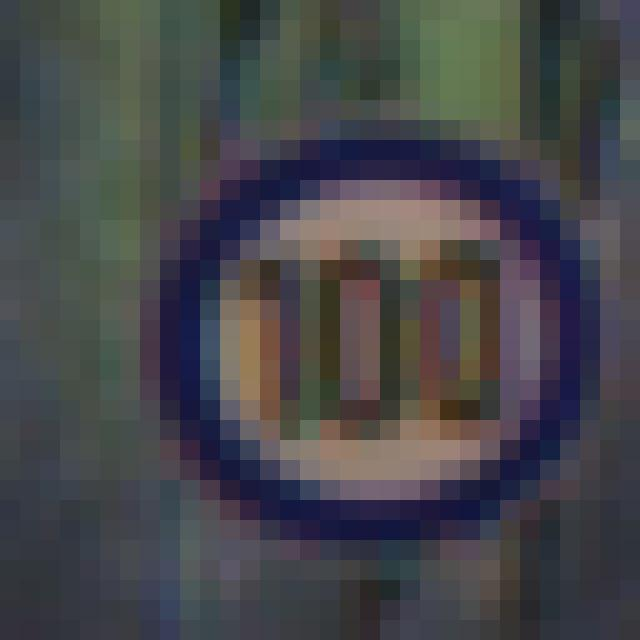SPEED LIMIT 100: (159, 144, 593, 534)
